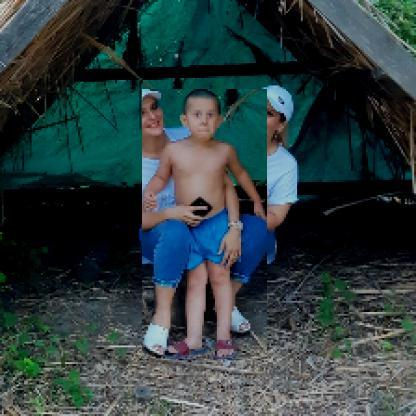child: (143, 90, 269, 361)
